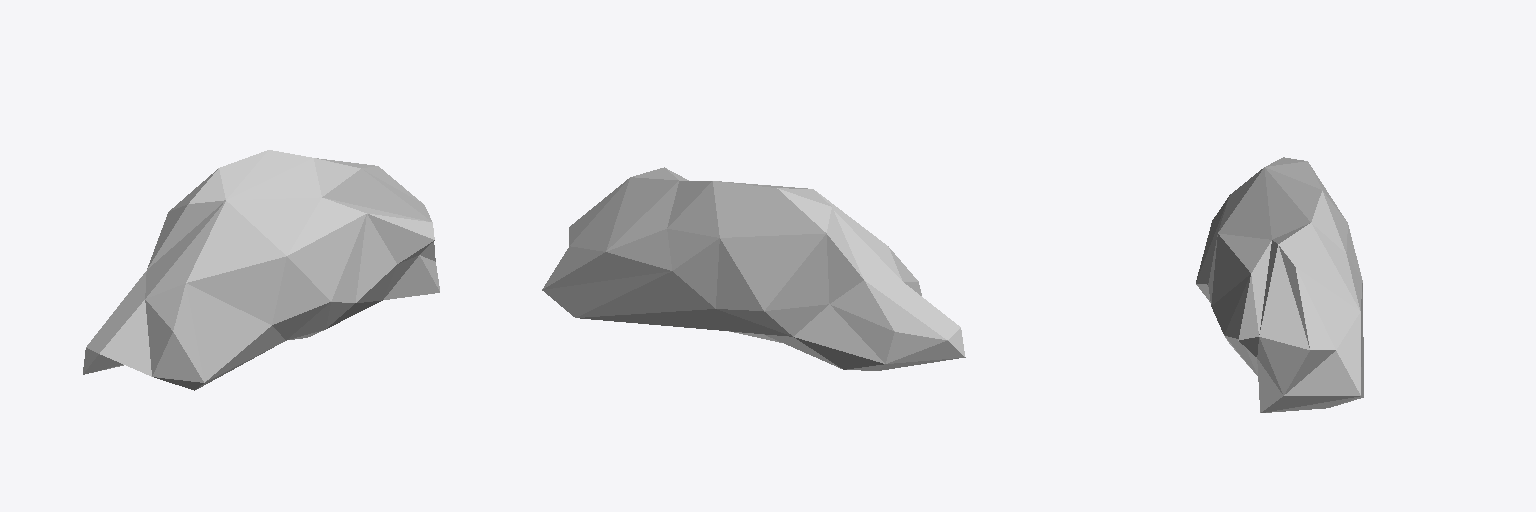
The model's file is Cloud23.obj.
The picture shows the model from 3 angles: view 1: azimuth 30°, elevation 25°; view 2: azimuth 150°, elevation 25°; view 3: azimuth 270°, elevation 25°; orthographic projection.
Visible parts, largest first — view 1: Cloud23_Object_84_Object_40.001; view 2: Cloud23_Object_84_Object_40.001; view 3: Cloud23_Object_84_Object_40.001.
Boxes of the visible parts, <box> form: Cloud23_Object_84_Object_40.001: <box>83,150,439,390</box>; Cloud23_Object_84_Object_40.001: <box>542,167,965,370</box>; Cloud23_Object_84_Object_40.001: <box>1196,157,1363,412</box>.
Size of the model in its own units: 1.67 by 0.7185 by 0.6579.